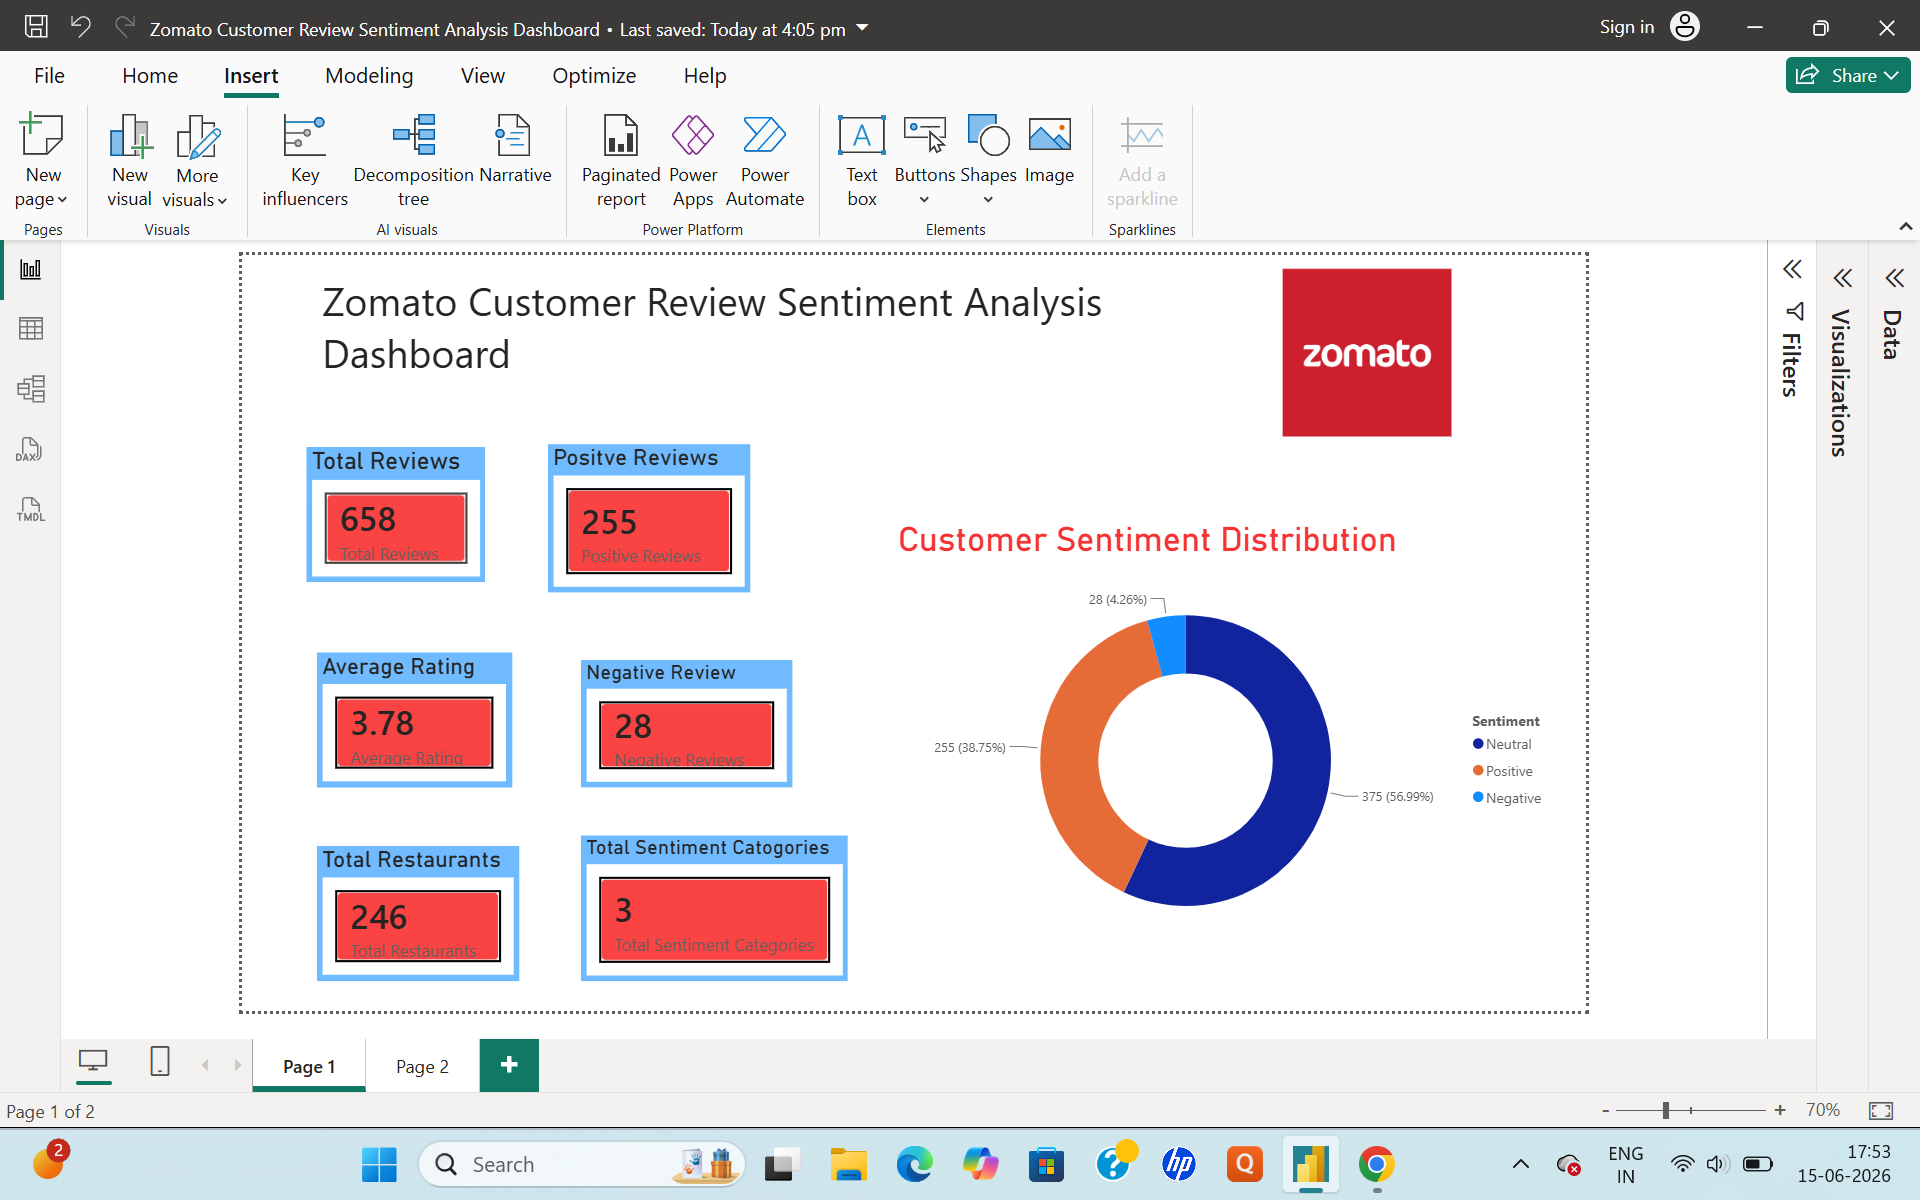

The dashboard page shown, as its layout file describes it:
{"tool":"powerbi","page":{"name":"Page 1","canvas":[1280,720],"ordinal":0},"visuals":[{"type":"image","box":[938.6,12.9,265.7,160],"z":0},{"type":"cardVisual","title":"Total Reviews","fields":{"Data":["zomato_sentiment_final.Total Reviews"]},"box":[61.4,182.9,170,128.6],"z":1000},{"type":"cardVisual","title":"Total Restaurants","fields":{"Data":["zomato_sentiment_final.Total Restaurants"]},"box":[71.4,562.9,192.9,128.6],"z":2000},{"type":"cardVisual","title":"Average Rating","fields":{"Data":["zomato_sentiment_final.Average Rating"]},"box":[71.4,378.6,185.7,128.6],"z":3000},{"type":"cardVisual","title":"Negative Review","fields":{"Data":["zomato_sentiment_final.Negative Reviews"]},"box":[322.9,385.7,201.4,121.4],"z":4000},{"type":"cardVisual","title":"Positve Reviews","fields":{"Data":["zomato_sentiment_final.Positive Reviews"]},"box":[291.4,180,192.9,141.4],"z":5000},{"type":"cardVisual","title":"Total Sentiment Catogories","fields":{"Data":["zomato_sentiment_final.Total Cities"]},"box":[322.9,552.9,254.3,138.6],"z":6000},{"type":"donutChart","title":"Customer Sentiment Distribution","fields":{"Category":["zomato_sentiment_final.Sentiment"],"Y":["zomato_sentiment_final.Review Count"]},"box":[620,251.4,638.6,422.9],"z":7000},{"type":"textbox","box":[71.4,12.9,904.3,167.1],"z":8002}]}

Visuals, with their boxes on the page's 1280x720 design canvas (x1, y1, x2, y2). These are canvas units, not pixel positions in the 1920x1200 screenshot, which may show the page scaled, cropped or inside an application window:
image: rect(939, 13, 1204, 173)
"Total Reviews" cardVisual: rect(61, 183, 231, 312)
"Total Restaurants" cardVisual: rect(71, 563, 264, 692)
"Average Rating" cardVisual: rect(71, 379, 257, 507)
"Negative Review" cardVisual: rect(323, 386, 524, 507)
"Positve Reviews" cardVisual: rect(291, 180, 484, 321)
"Total Sentiment Catogories" cardVisual: rect(323, 553, 577, 692)
"Customer Sentiment Distribution" donutChart: rect(620, 251, 1259, 674)
textbox: rect(71, 13, 976, 180)
